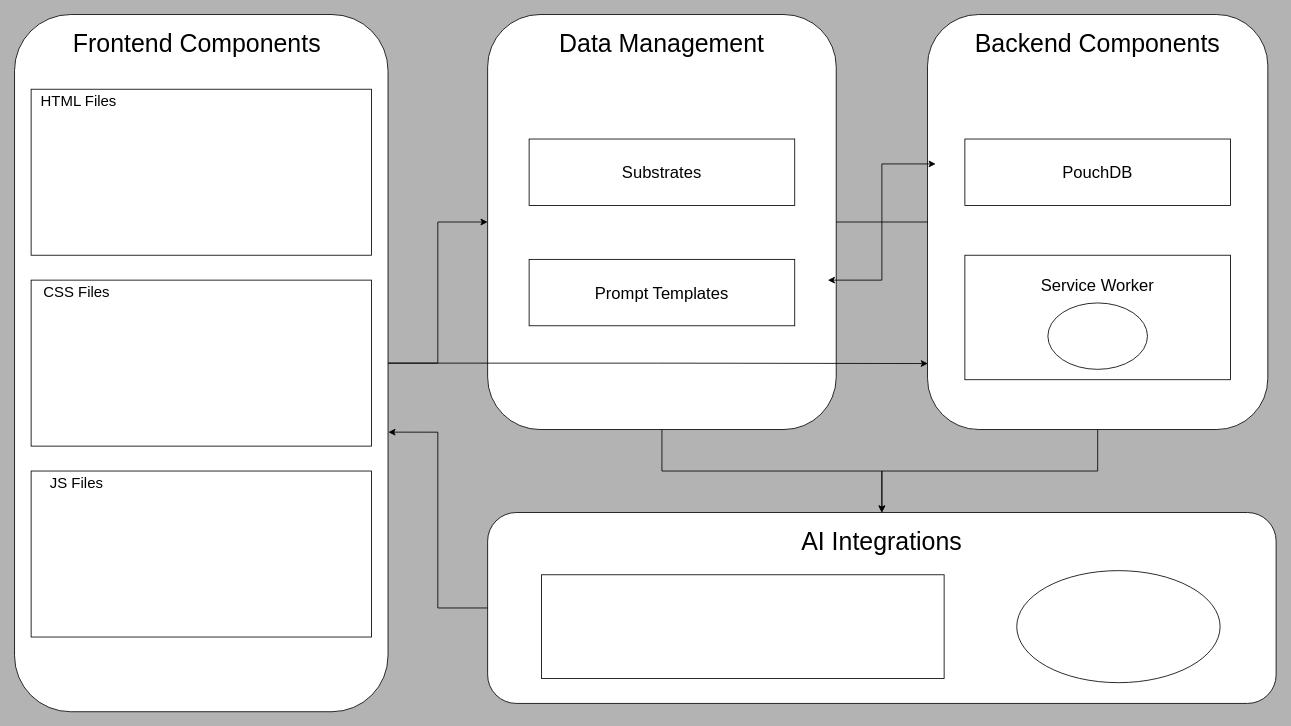
This 1291x726 diagram has some shape labels left out. The shapes that lost their labels are listed below. From the top down, each one's box as (x1, y1, x2, y2) in pixels, then its label:
(1047, 302, 1147, 369): service-worker.mjs
(541, 574, 944, 679): PhysarAI
(1016, 570, 1220, 683): knowledge.js
